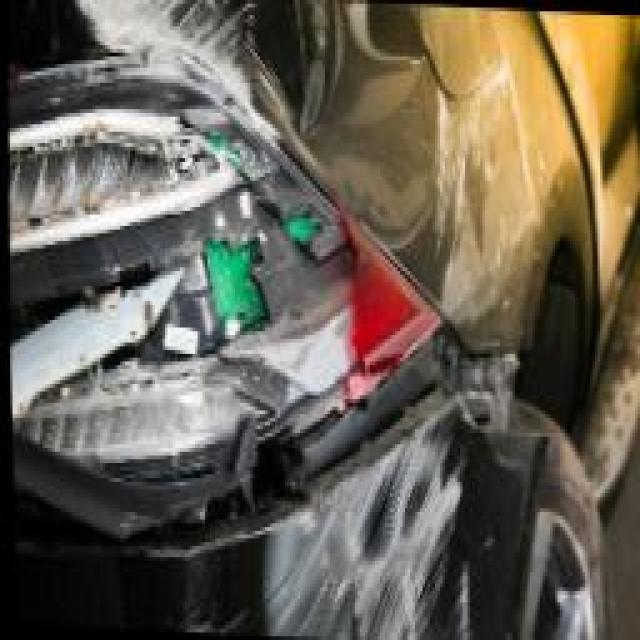Bumper: (8, 373, 544, 640)
Fender: (380, 30, 562, 331)
Light: (2, 60, 387, 474)
